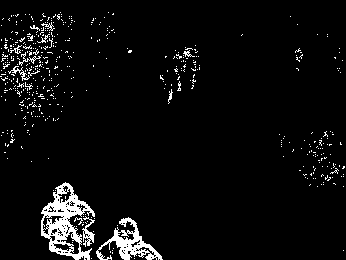person: (39, 181, 96, 260), (94, 208, 166, 260)
